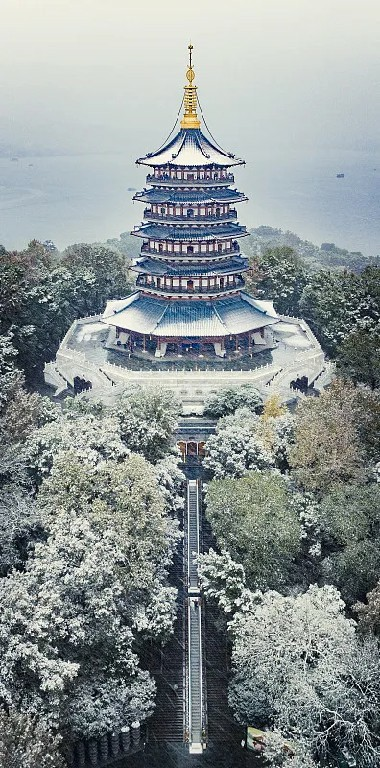Leifeng: (100, 39, 283, 370)
